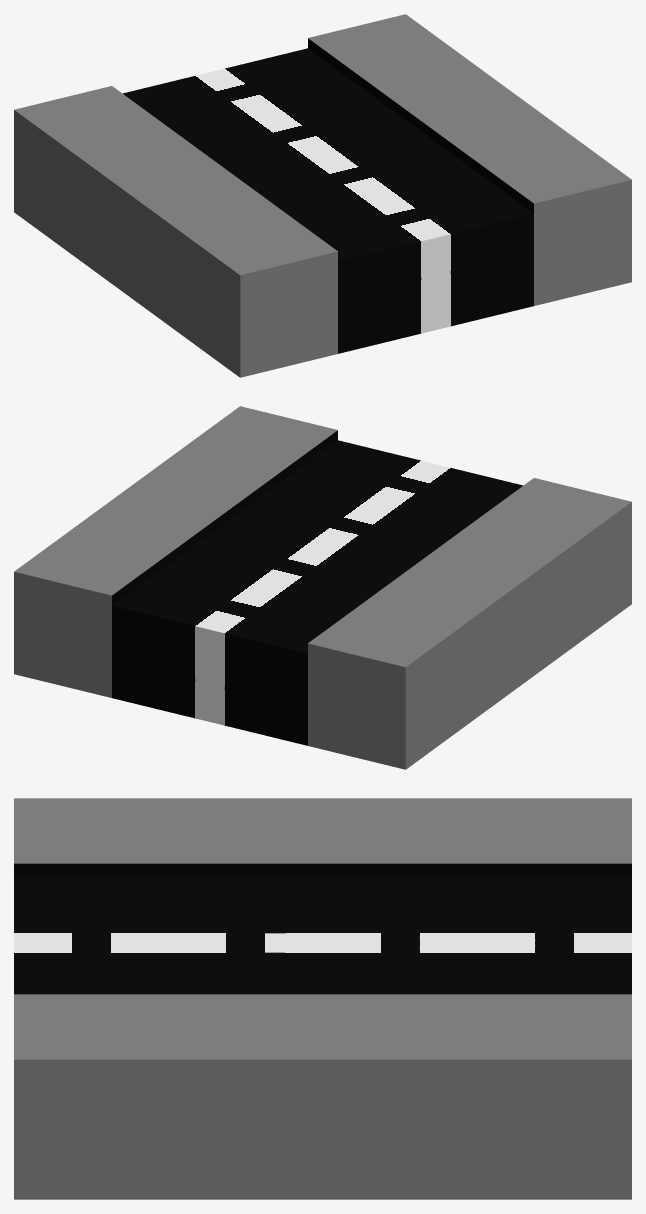
The model's file is StraightRoad.fbx.
3 views of the same model, one above another, from view 1: azimuth 30°, elevation 25°; view 2: azimuth 150°, elevation 25°; view 3: azimuth 270°, elevation 25° (orthographic). The views are drawn at different scales.
Visible parts, largest first — view 1: StraightRoad; view 2: StraightRoad; view 3: StraightRoad.
Part boxes in pixels (box(x1,y1,x2,y2)): StraightRoad: box(14, 14, 631, 377); StraightRoad: box(14, 406, 631, 769); StraightRoad: box(14, 798, 631, 1199).
Size of the model in its own units: 4 by 1 by 4.
1 material, 1 textured.
